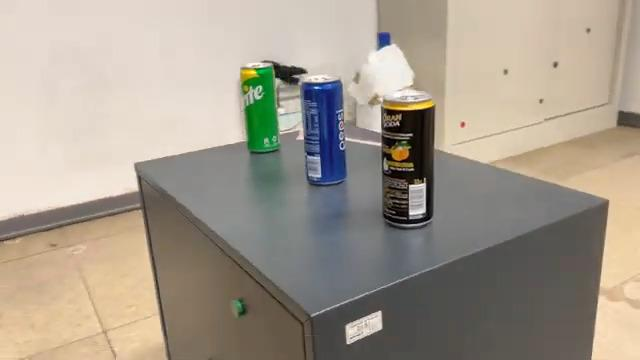Pepsi: (376, 90, 438, 232), (296, 71, 352, 189)
Sprite: (236, 58, 284, 160)
